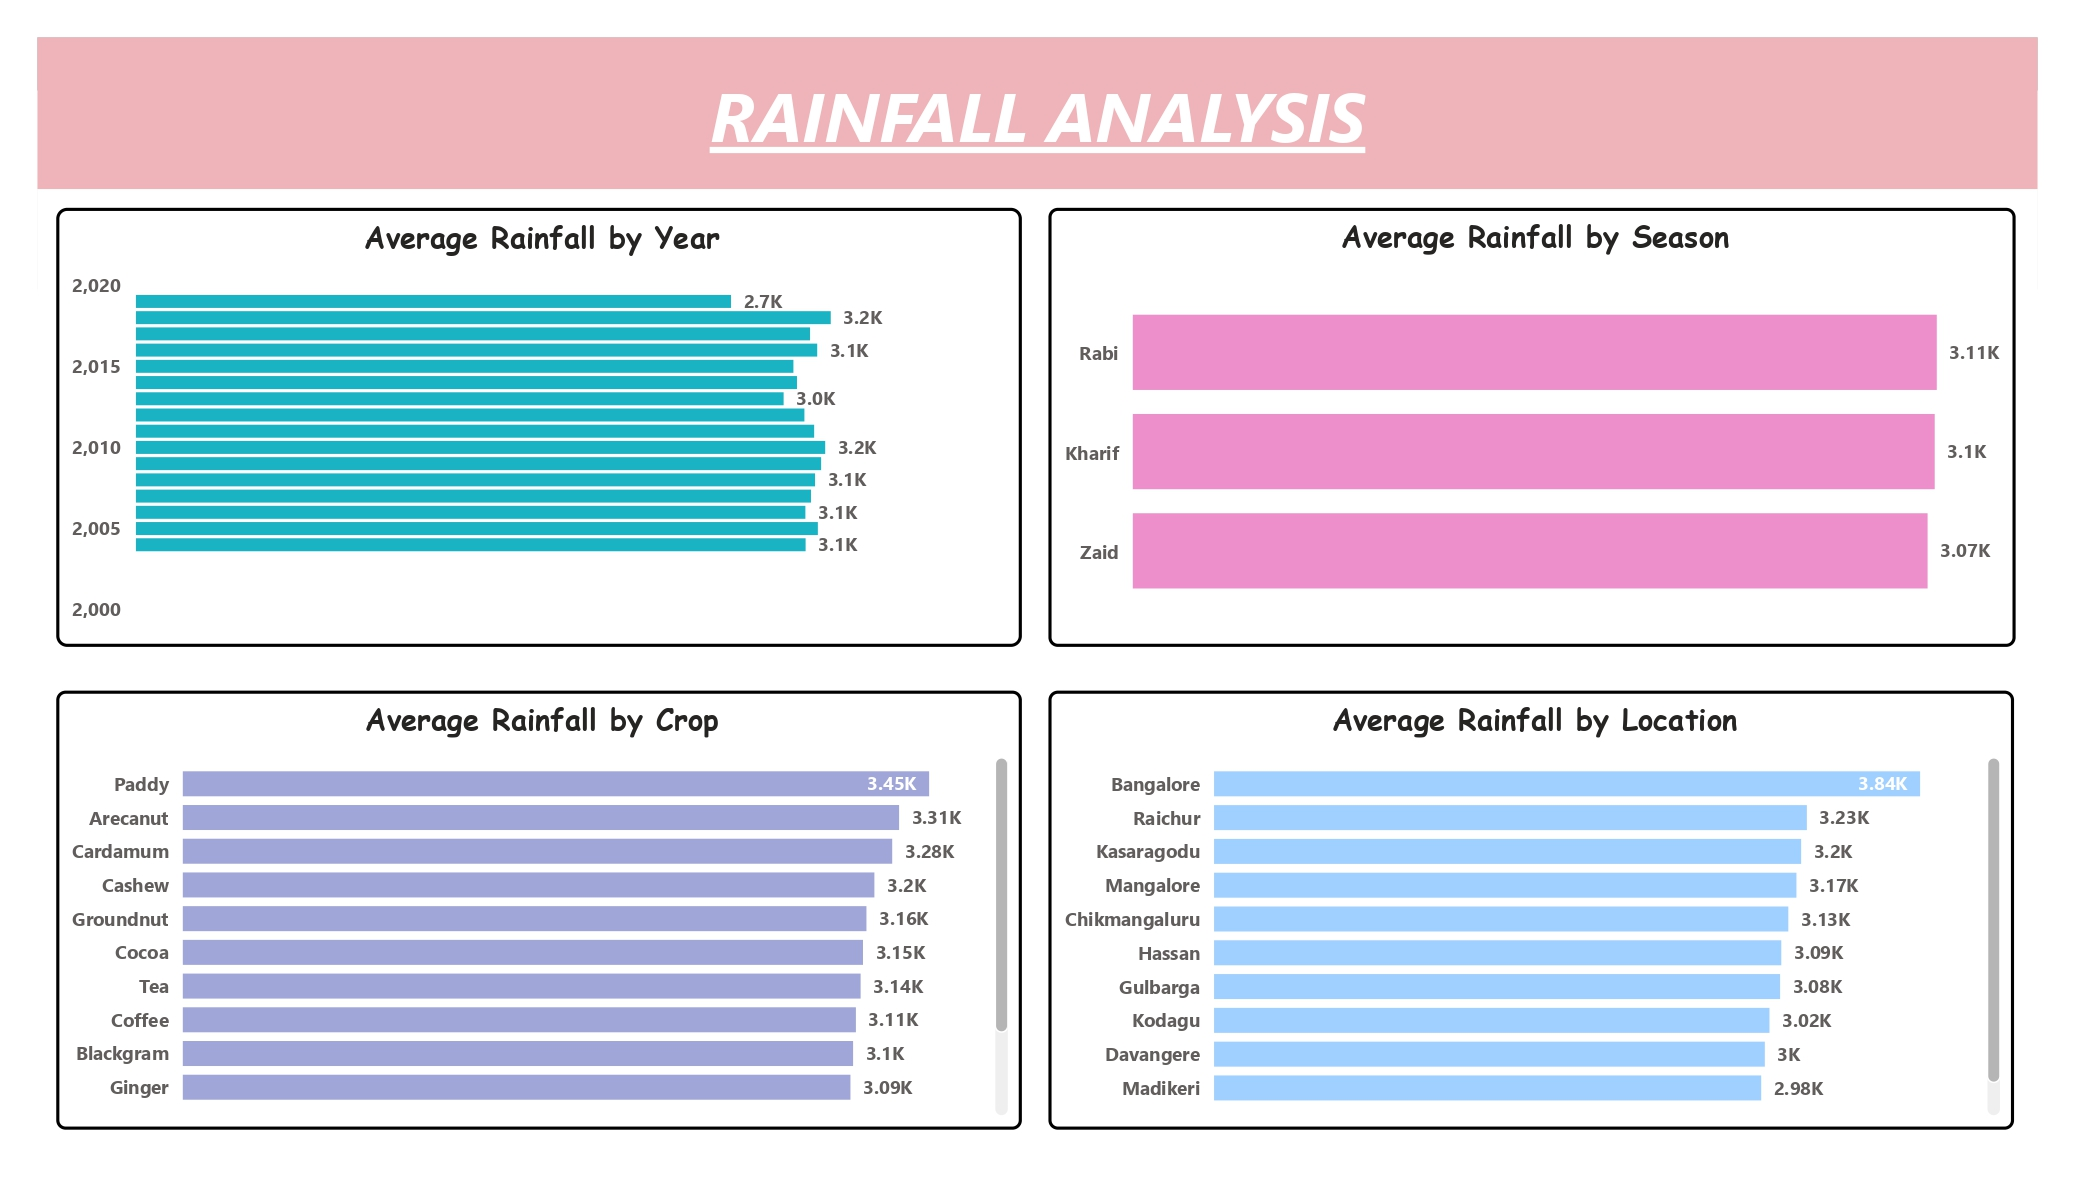

The page's visual inventory and layout, read from the dashboard file:
{"tool":"powerbi","page":{"name":"Rainfall Analysis","canvas":[1280,720],"ordinal":0},"visuals":[{"type":"shape","box":[0,0,1279.8,96.8],"z":0},{"type":"barChart","title":"Average  Rainfall by Year","fields":{"Category":["AGRICULTURE.YEAR"],"Y":["Avg(AGRICULTURE.RAINFALL)"]},"box":[11.7,109,618,281.5],"z":1000},{"type":"barChart","title":"Average  Rainfall by Season","fields":{"Y":["Avg(AGRICULTURE.RAINFALL)"],"Category":["AGRICULTURE.SEASON"]},"box":[647.4,109,618.8,281.5],"z":2000},{"type":"barChart","title":"Average  Rainfall by Crop","fields":{"Y":["Avg(AGRICULTURE.RAINFALL)"],"Category":["AGRICULTURE.CROPS"]},"box":[11.7,417.7,618,281],"z":3000},{"type":"barChart","title":"Average  Rainfall by Location","fields":{"Y":["Avg(AGRICULTURE.RAINFALL)"],"Category":["AGRICULTURE.LOCATION"]},"box":[647.4,417.7,618,281.5],"z":4000}]}

Visuals, with their boxes in screenshot pixels (x1, y1, x2, y2):
shape: [38, 38, 2037, 189]
"Average  Rainfall by Year" barChart: [56, 208, 1021, 648]
"Average  Rainfall by Season" barChart: [1049, 208, 2016, 648]
"Average  Rainfall by Crop" barChart: [56, 690, 1021, 1129]
"Average  Rainfall by Location" barChart: [1049, 690, 2015, 1130]
